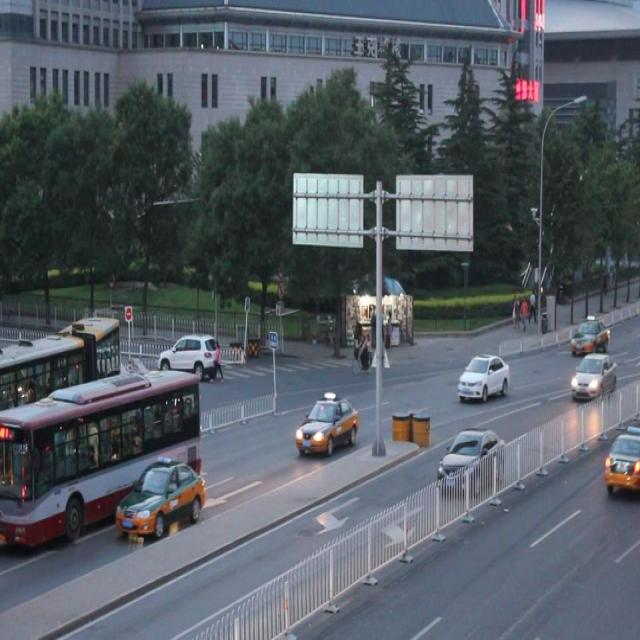car: (116, 455, 205, 541), (434, 424, 505, 499), (295, 389, 359, 461), (159, 330, 220, 380), (456, 350, 508, 407), (600, 424, 640, 492), (568, 350, 616, 401), (122, 360, 164, 410)
van: (1, 367, 199, 549), (1, 318, 122, 422)
